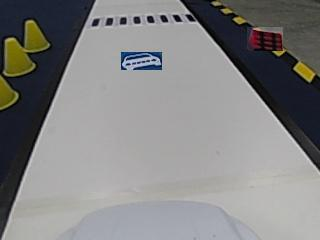crosswalk: (91, 13, 195, 28)
